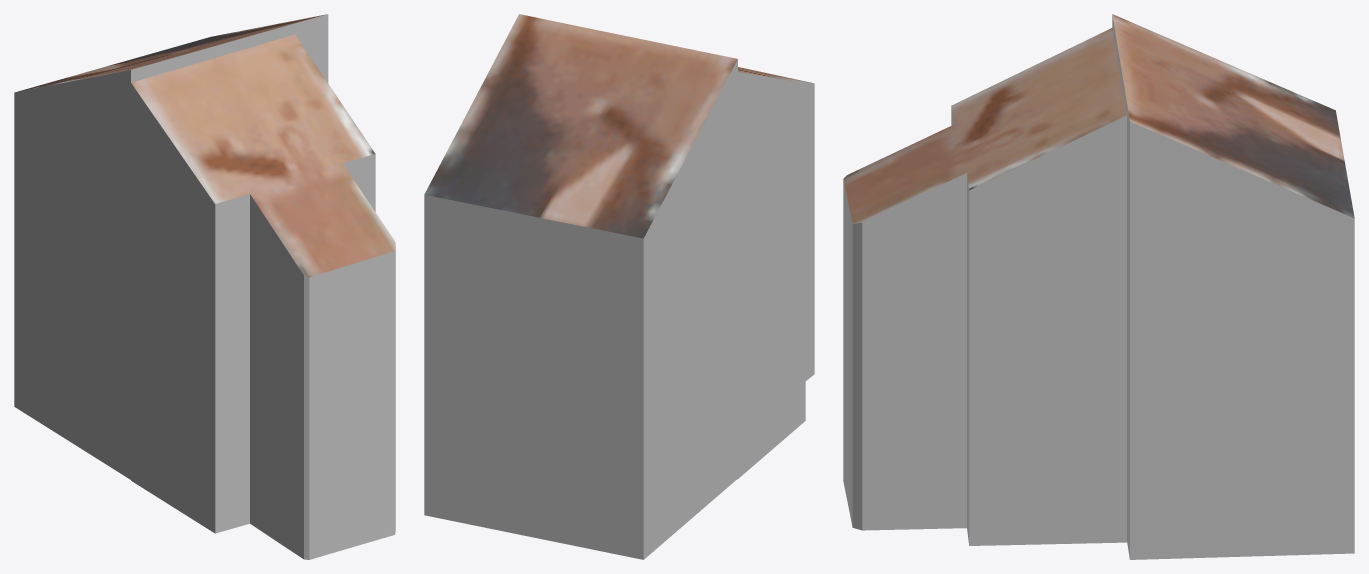
File: DEBW_0010007Tx9d.gltf
3 views of the same model, side by side, from view 1: azimuth 30°, elevation 25°; view 2: azimuth 150°, elevation 25°; view 3: azimuth 270°, elevation 25° (orthographic). The views are drawn at different scales.
Visible parts, largest first — view 1: Z_UP; view 2: Z_UP; view 3: Z_UP.
Part boxes in pixels (x1,y1,x2,y2): Z_UP: (14,14,395,559); Z_UP: (424,14,814,559); Z_UP: (843,14,1354,559).
Size of the model in its own units: 9.53 by 17.16 by 18.11.
Materials: 2 (1 with a texture image).
